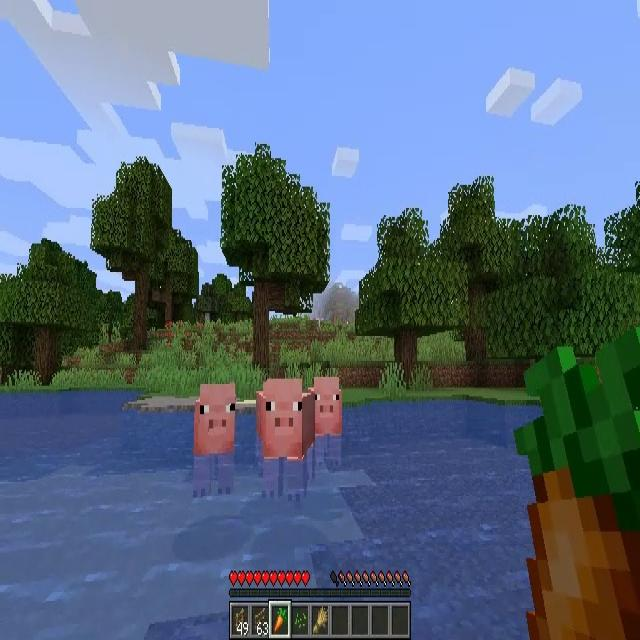pig: (257, 378, 314, 501), (193, 384, 235, 495), (311, 378, 343, 468)
